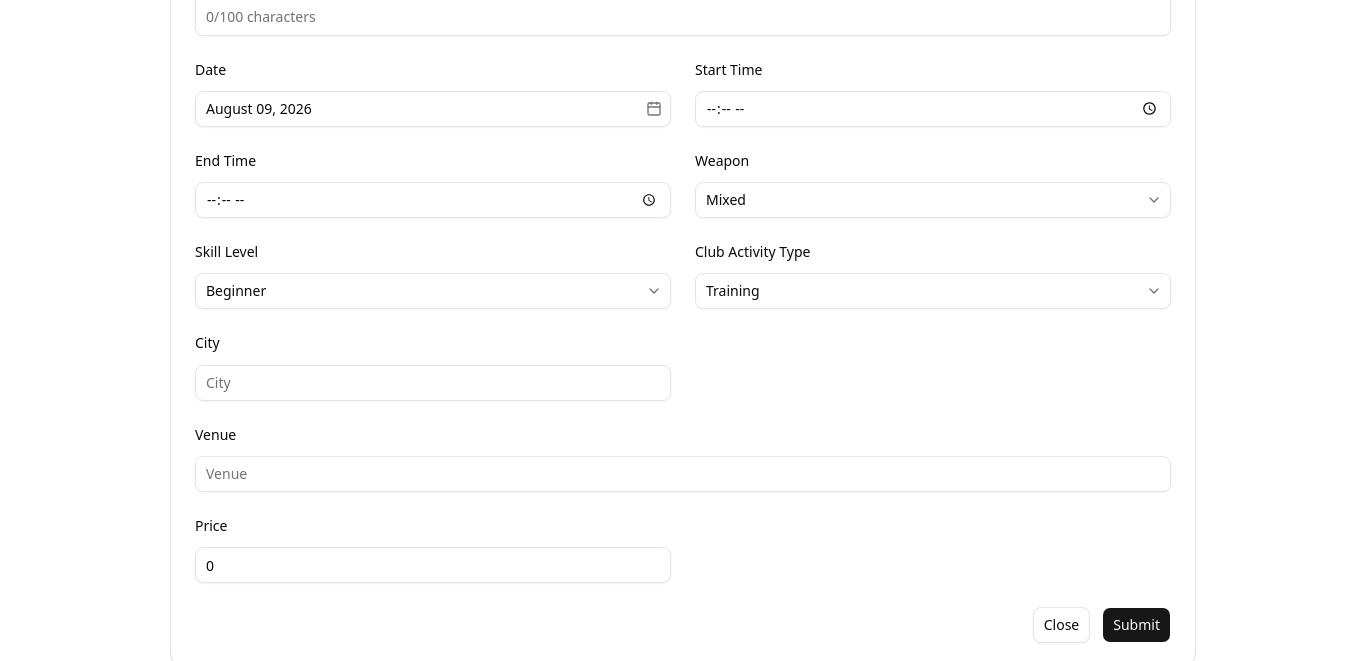
Test case: ActivityForm › blocks submission and shows a validation error when the title is too short
This screenshot has width=1366, height=661.
(page scrolled)
Click the button "Submit". click: (1137,625)
box: [1102,607,1171,643]
(page scrolled)
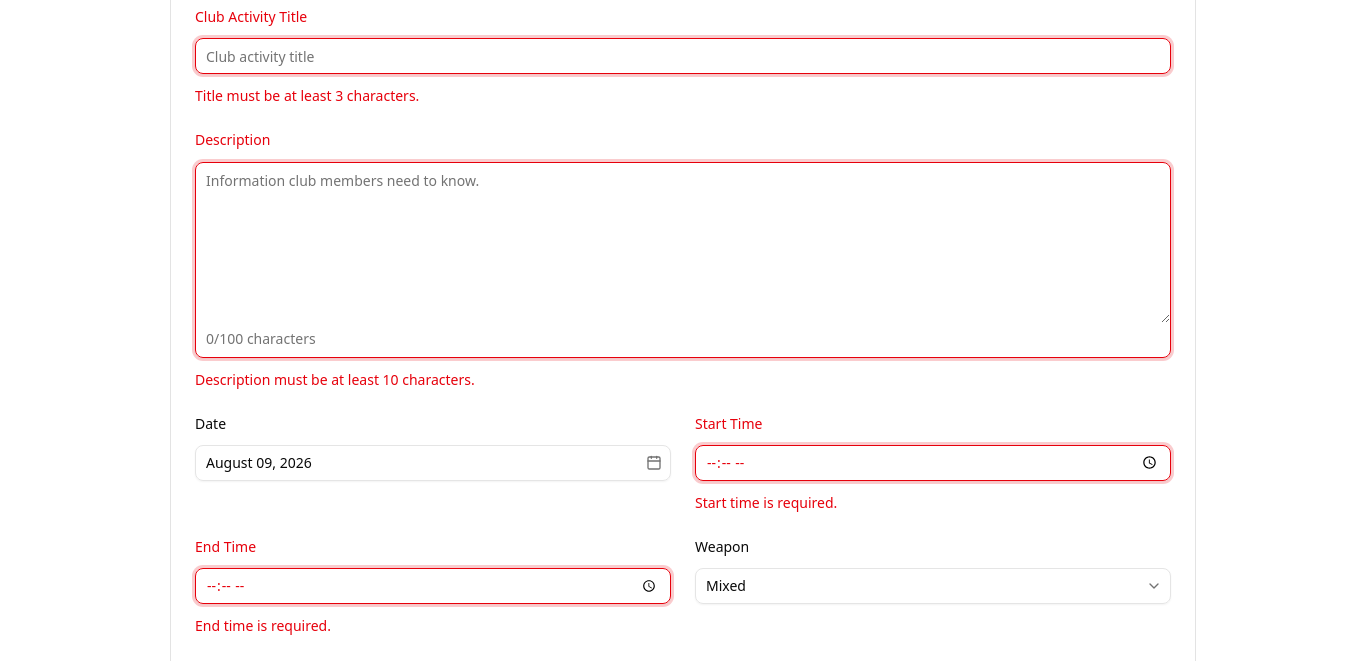
Check: the text "Title must be at least 3 characters." is shown, box [195,86,419,105]
